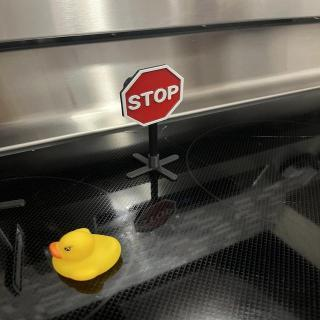duck_regular: (49, 227, 124, 286)
sign_stop: (120, 64, 188, 130)
